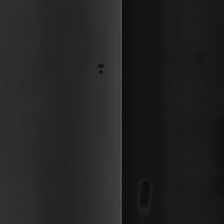oil_spot: (92, 56, 109, 76)
